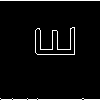E: (25, 24, 75, 58)
